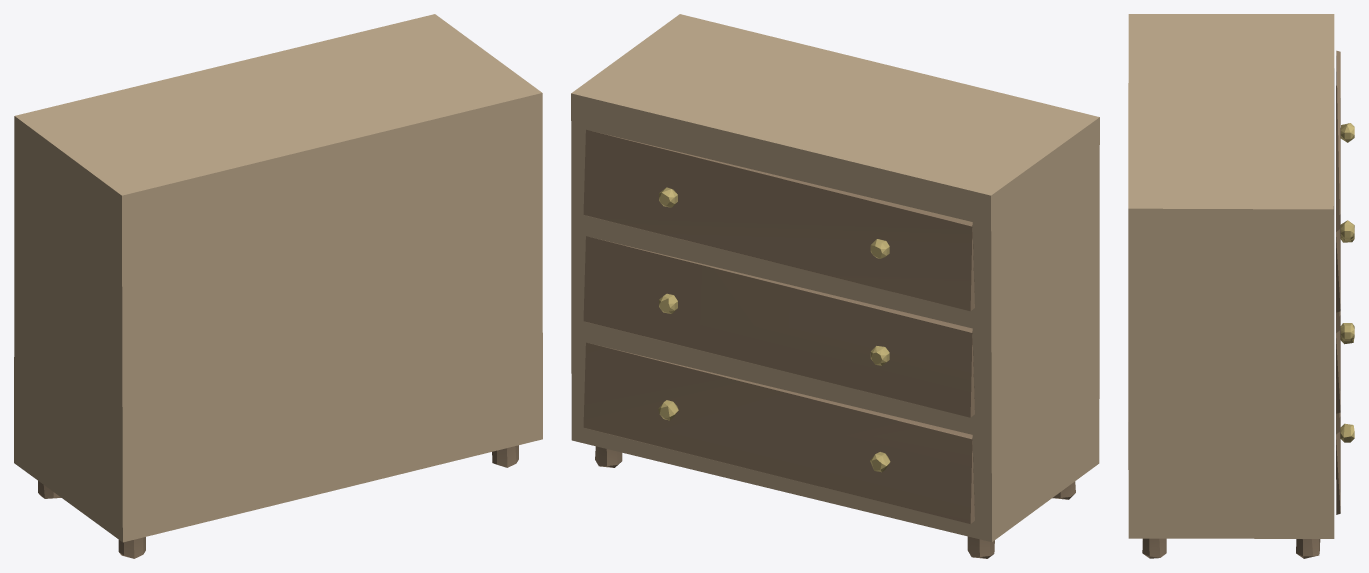
File: furn_dresser__oak_low.glb
3 views of the same model, side by side, from view 1: azimuth 30°, elevation 25°; view 2: azimuth 150°, elevation 25°; view 3: azimuth 270°, elevation 25° (orthographic). The views are drawn at different scales.
Size of the model in its own units: 0.9935 by 0.8469 by 0.4871.
